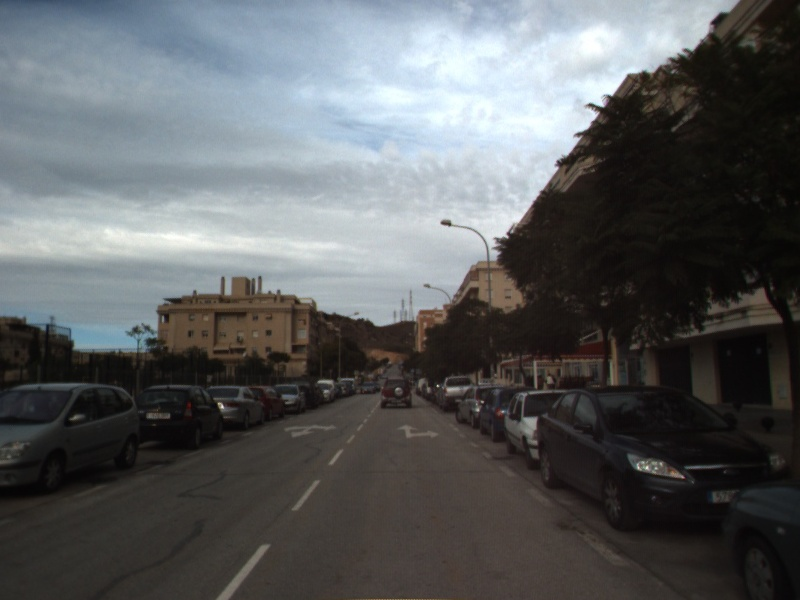STRAIGHT_RIGHT: (395, 422, 441, 440)
